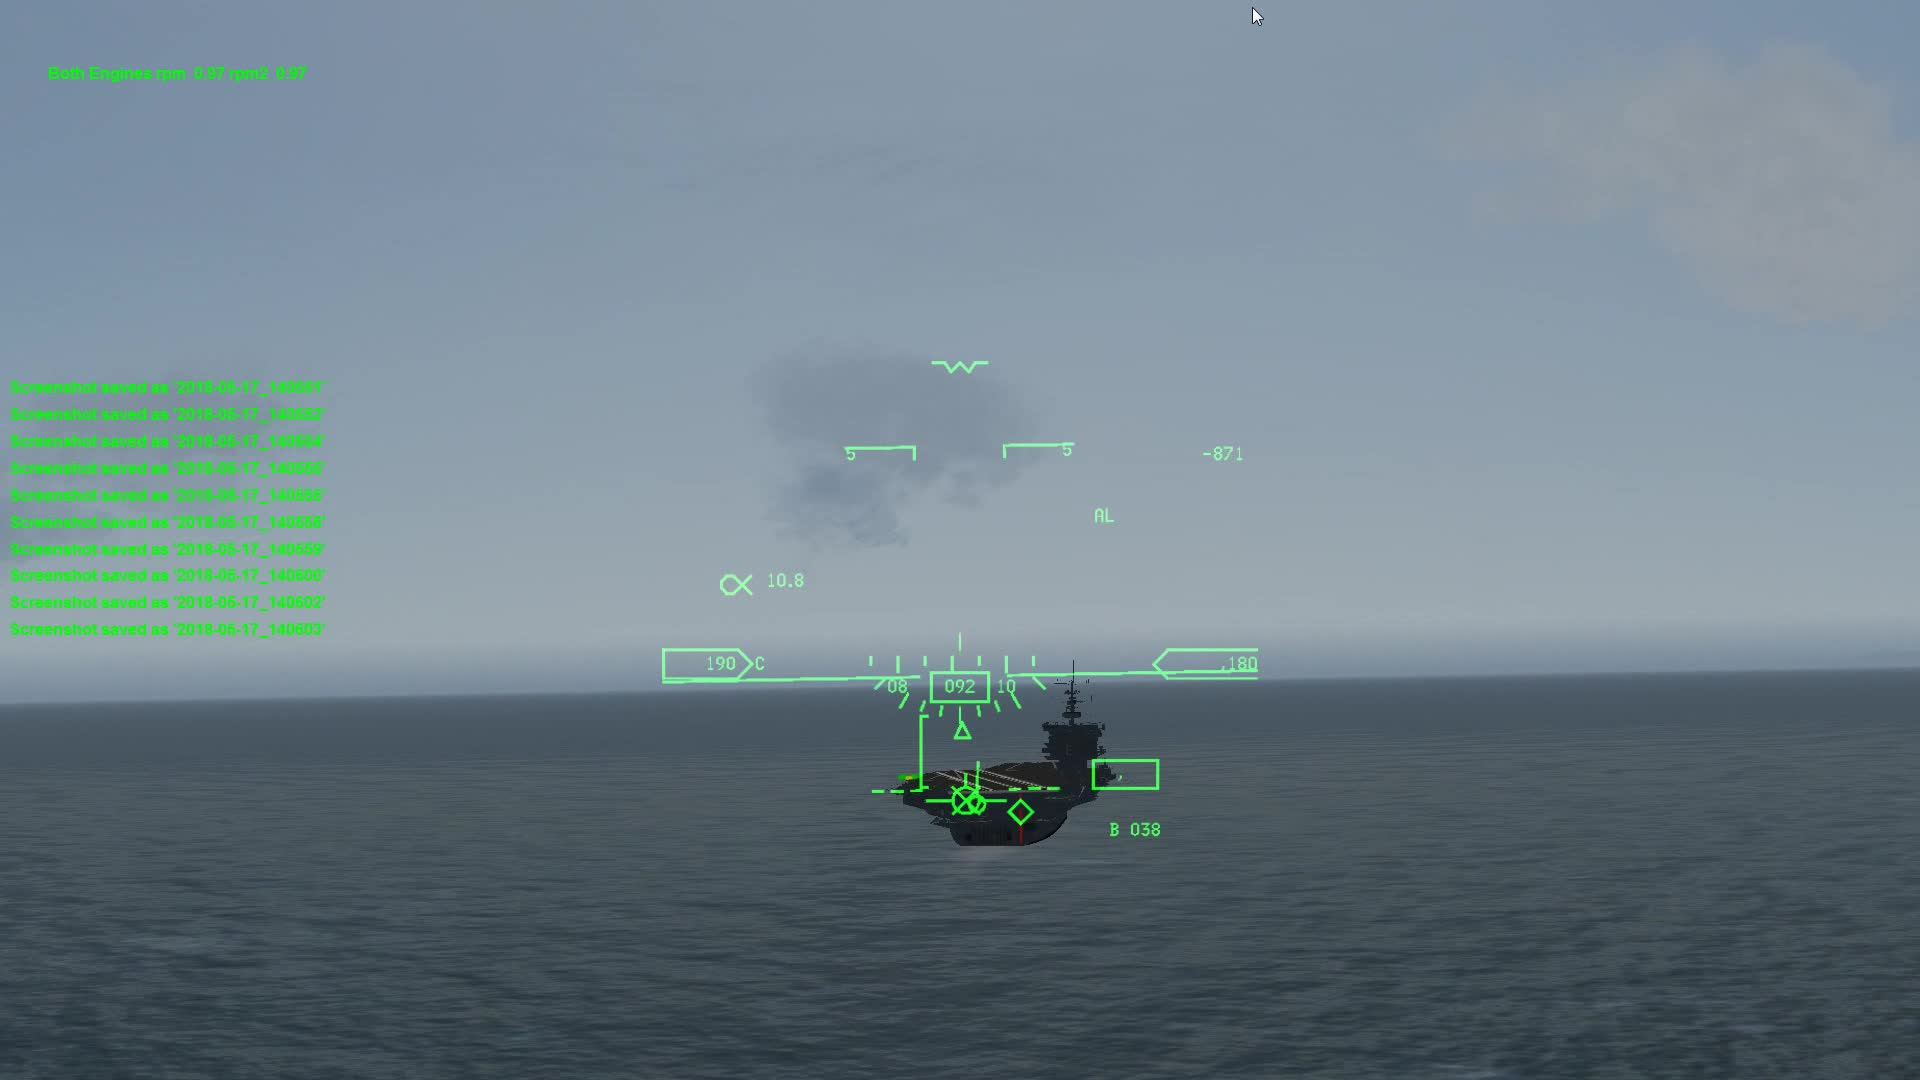speed vector: (928, 781, 1013, 816)
